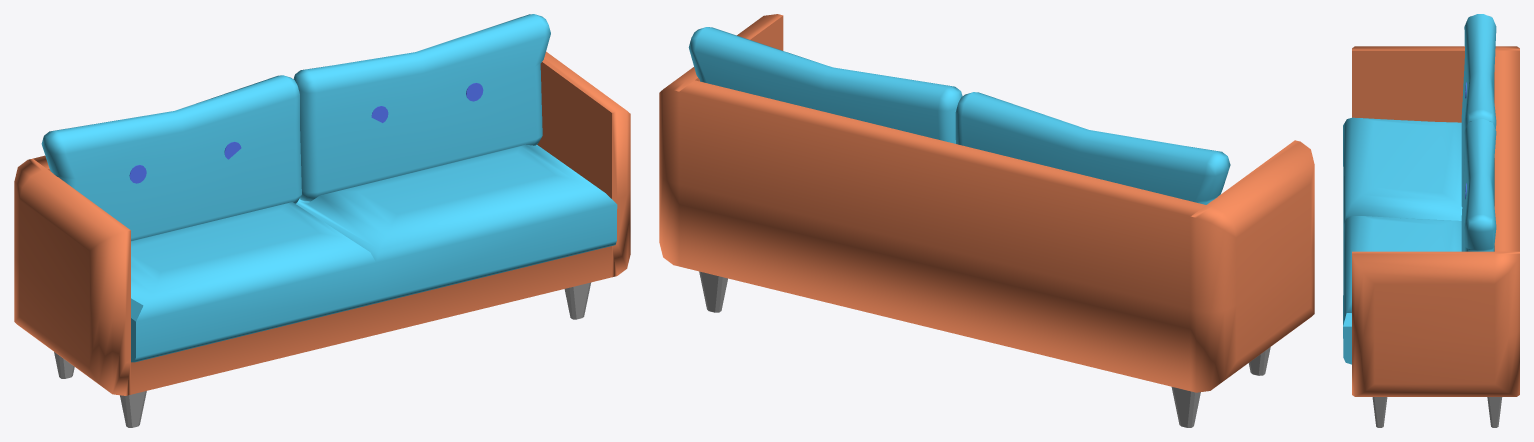
File: sofa_v01.fbx
3 views of the same model, side by side, from view 1: azimuth 30°, elevation 25°; view 2: azimuth 150°, elevation 25°; view 3: azimuth 270°, elevation 25° (orthographic). The views are drawn at different scales.
Parts seen in each view (by area): view 1: Sofa; view 2: Sofa; view 3: Sofa.
Boxes of the visible parts, x1,y1,x2,y2 form: Sofa: [14, 14, 630, 427]; Sofa: [659, 14, 1314, 427]; Sofa: [1343, 14, 1519, 427].
Size of the model in its own units: 190 by 86.03 by 63.2.
